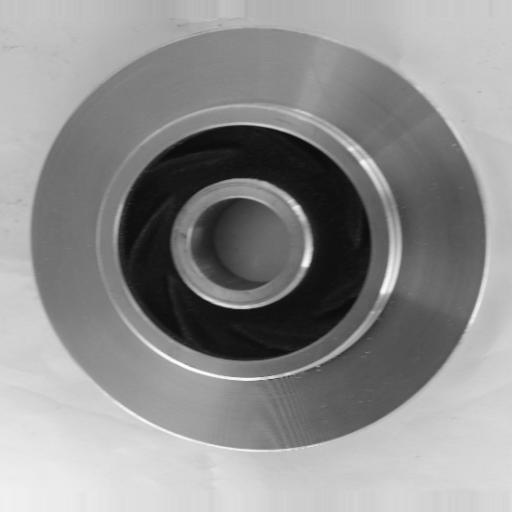polished_casting: (28, 30, 489, 451)
